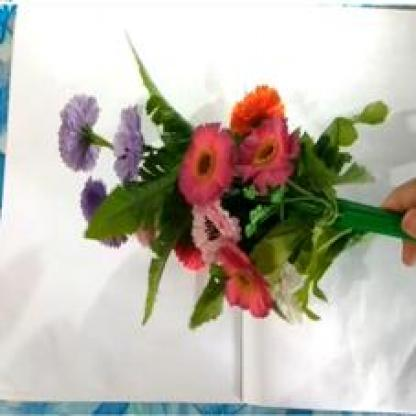flower: (39, 45, 416, 337)
